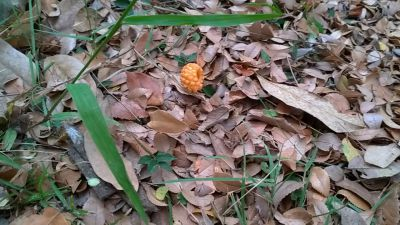eggs: (178, 60, 206, 93)
